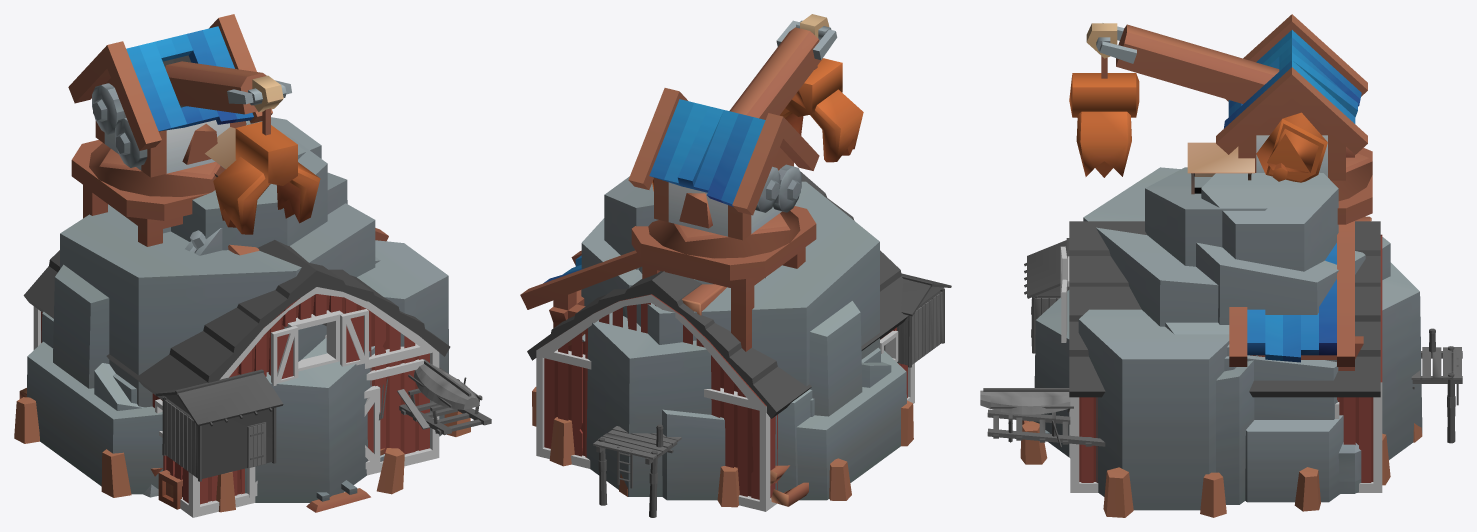
The model's file is kit_ws.glb.
3 views of the same model, side by side, from view 1: azimuth 30°, elevation 25°; view 2: azimuth 150°, elevation 25°; view 3: azimuth 270°, elevation 25° (orthographic). The views are drawn at different scales.
Parts seen in each view (by area): view 1: mountain_A, building_lumbermill_top_blue, Barn, ws_jetty_n, building_mine_blue, building_lumbermill_blue, trees_A_cut, mountain_B, Barn_Window, Barn_Window2, Barn_Door, building_tavern_blue (+1 smaller); view 2: building_lumbermill_top_blue, mountain_A, Barn, building_mine_blue, building_lumbermill_blue, ws_jetty_n, mountain_B, trees_A_cut; view 3: mountain_A, building_lumbermill_top_blue, Barn, building_mine_blue, mountain_B, building_lumbermill_blue, ws_jetty_n, trees_A_cut, watchtower_watchtower_0.
Part boxes in pixels (x1,y1,x2,y2): mountain_A: (27, 133, 448, 502); building_lumbermill_top_blue: (68, 14, 320, 234); Barn: (23, 240, 450, 517); ws_jetty_n: (155, 359, 491, 481); building_mine_blue: (41, 257, 384, 512); building_lumbermill_blue: (19, 140, 388, 398); trees_A_cut: (14, 397, 470, 512); mountain_B: (113, 117, 347, 403); Barn_Window: (340, 309, 368, 366); Barn_Window2: (271, 326, 298, 385); Barn_Door: (364, 386, 380, 469); building_tavern_blue: (163, 227, 259, 255); building_lumbermill_top_blue: (628, 14, 863, 258); mountain_A: (582, 181, 906, 500); Barn: (527, 171, 919, 511); building_mine_blue: (586, 266, 891, 496); building_lumbermill_blue: (520, 206, 816, 506); ws_jetty_n: (593, 273, 951, 517); mountain_B: (581, 176, 880, 416); trees_A_cut: (532, 387, 913, 507); mountain_A: (1034, 167, 1390, 510); building_lumbermill_top_blue: (1069, 14, 1372, 200); Barn: (1067, 221, 1382, 492); building_mine_blue: (1022, 262, 1422, 504); mountain_B: (1196, 173, 1365, 371); building_lumbermill_blue: (1229, 147, 1372, 493); ws_jetty_n: (980, 238, 1462, 447); trees_A_cut: (1020, 421, 1422, 517); watchtower_watchtower_0: (1187, 142, 1254, 194).
Size of the model in its own units: 14.81 by 16.13 by 18.
17 materials, 12 textured.
